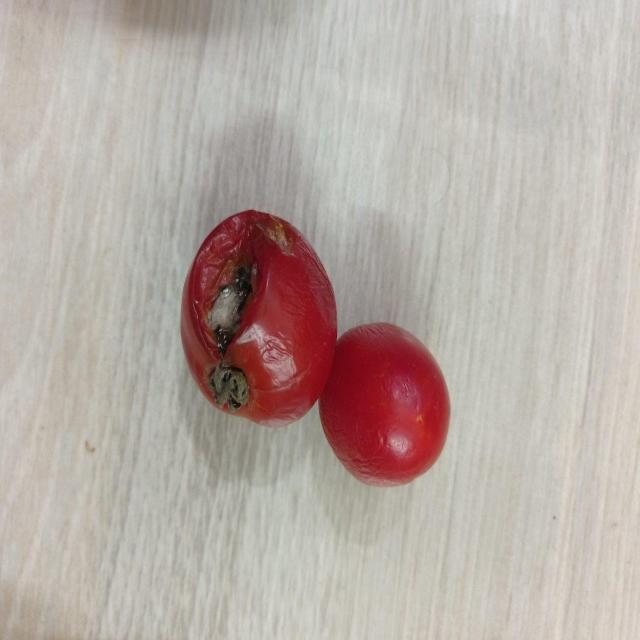Rotten: (181, 208, 337, 427)
